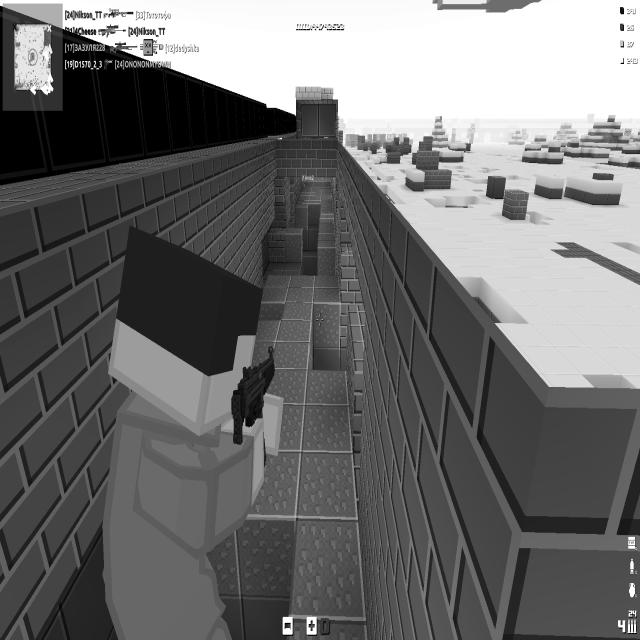Head: (108, 225, 263, 437)
Player: (101, 224, 280, 638)
